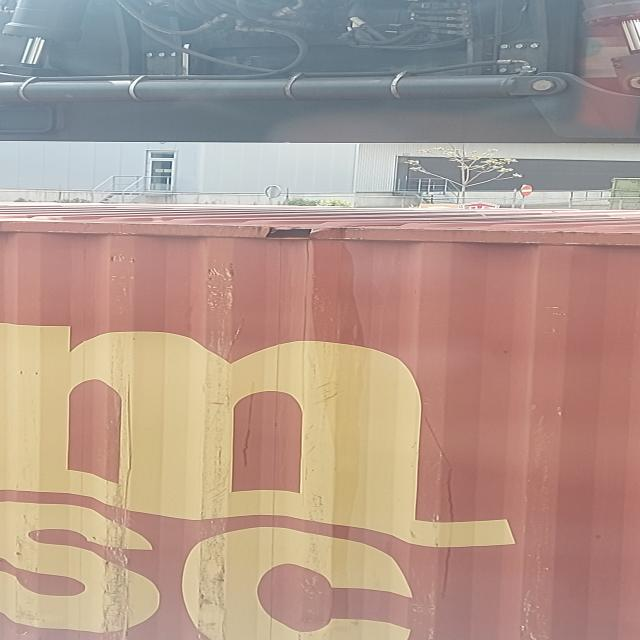hole: (256, 226, 320, 243)
